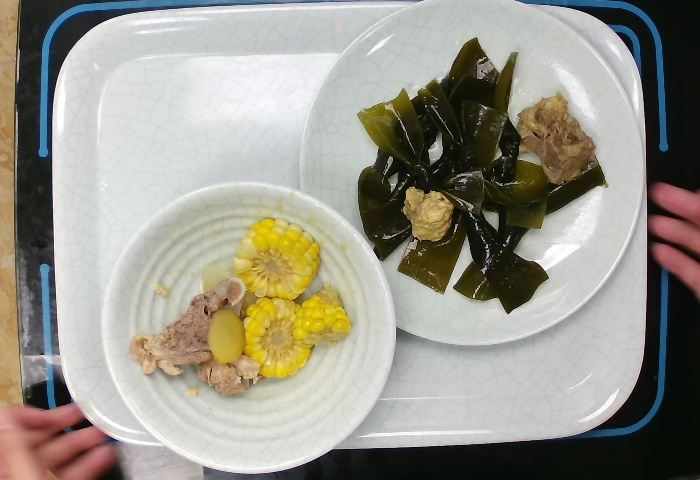JYsf-Da_Yuan_Pan: (294, 2, 650, 352)
JYsf-Xiao_Tang_Wan: (98, 180, 399, 472)
